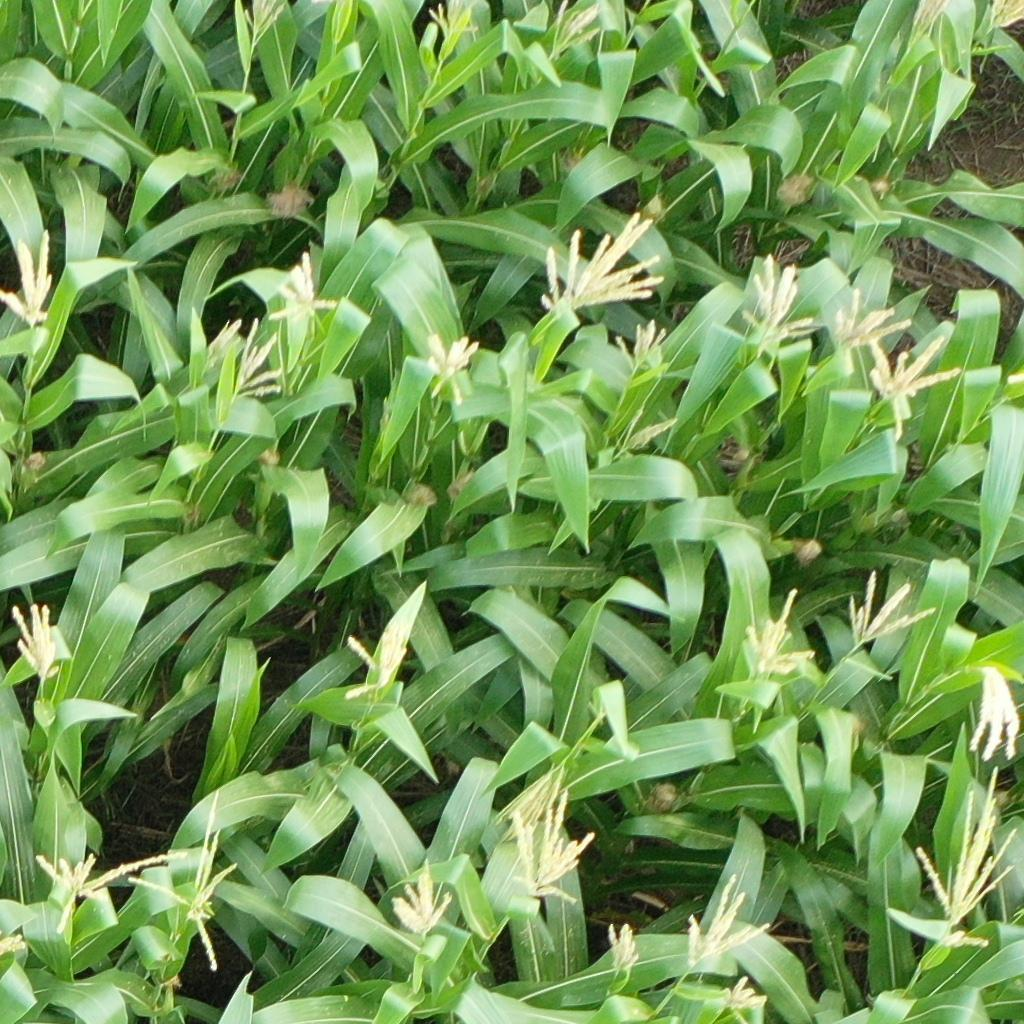Tassel: (127, 790, 234, 973), (912, 767, 1024, 920), (32, 834, 191, 937), (538, 209, 669, 319), (839, 571, 937, 686), (507, 791, 595, 908), (868, 335, 960, 442), (685, 872, 773, 968), (736, 586, 822, 683), (742, 255, 818, 359), (342, 617, 413, 702), (499, 757, 568, 844), (832, 286, 914, 355), (265, 252, 336, 328), (1, 231, 56, 328), (968, 666, 1021, 763), (388, 863, 453, 938), (234, 318, 289, 403), (10, 605, 69, 682), (613, 315, 674, 376), (518, 391, 589, 443), (428, 337, 479, 408), (546, 1, 605, 60), (616, 406, 677, 457), (935, 913, 995, 958), (606, 920, 645, 980), (718, 972, 760, 1024), (246, 1, 287, 52), (203, 316, 242, 368), (908, 1, 950, 48), (429, 1, 480, 37), (986, 1, 1024, 30), (514, 58, 543, 93), (1, 931, 30, 960)
